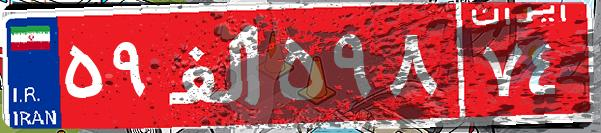4: (525, 38, 570, 115)
5: (273, 28, 330, 110), (57, 26, 110, 107)
7: (475, 38, 525, 113)
8: (385, 28, 445, 110)
9: (330, 28, 385, 110), (110, 28, 158, 105)
الف: (158, 15, 273, 115)
